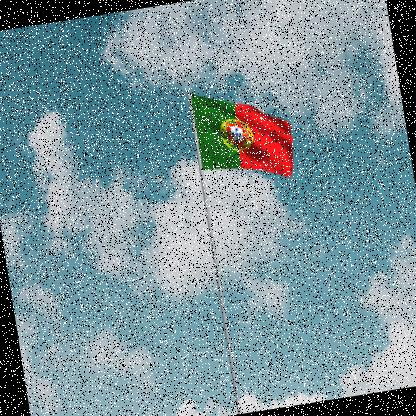pt: (192, 80, 300, 193)
